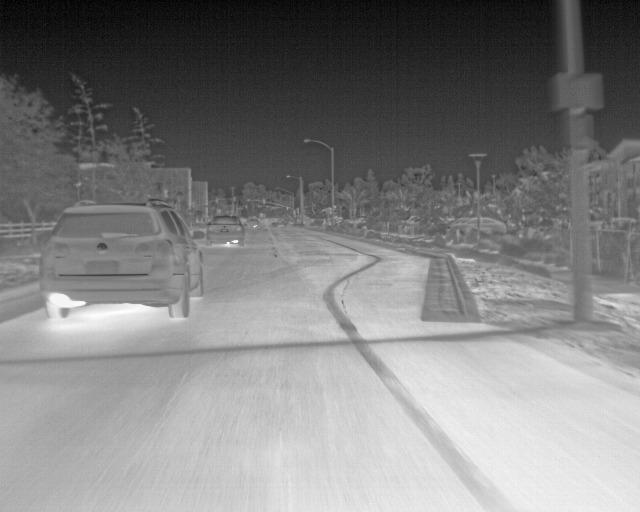car: (39, 199, 206, 320), (205, 215, 247, 247), (457, 216, 506, 236), (445, 218, 472, 233), (246, 219, 259, 230), (355, 218, 367, 228)
light: (233, 196, 236, 202), (262, 198, 265, 204), (216, 199, 218, 203), (286, 206, 288, 210)
sign: (556, 73, 603, 107), (247, 199, 250, 202)
